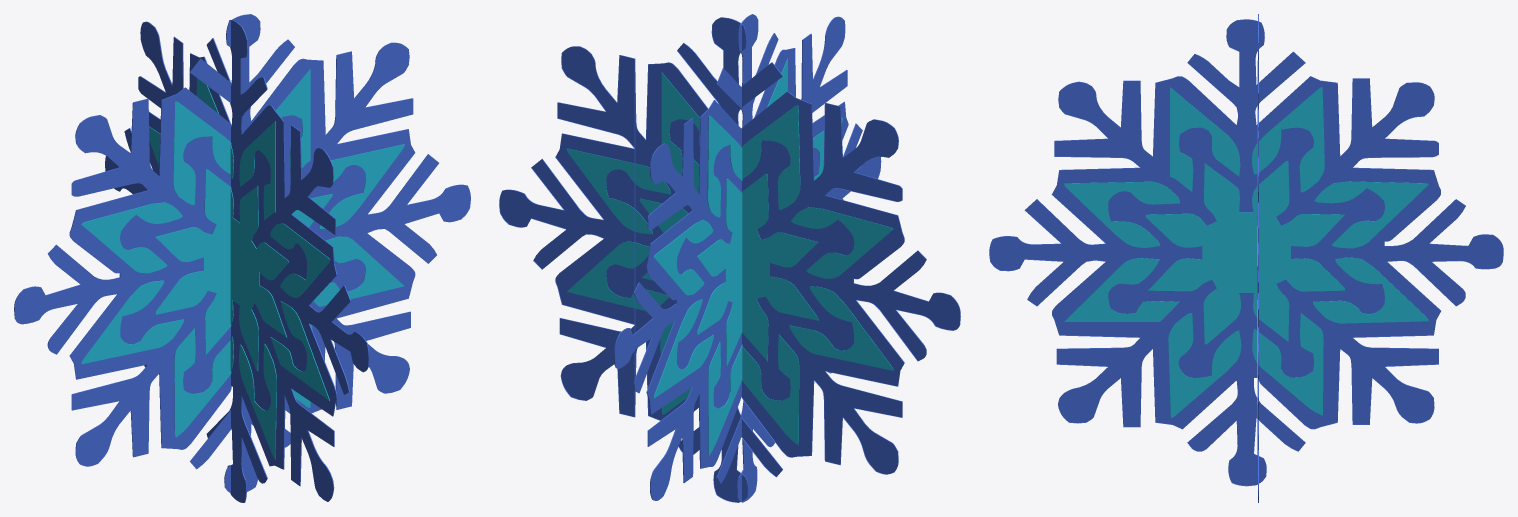
The model's file is Snowflake1.glb.
The picture shows the model from 3 angles, left to right: view 1: azimuth 30°, elevation 25°; view 2: azimuth 150°, elevation 25°; view 3: azimuth 270°, elevation 25°; orthographic projection. The views are drawn at different scales.
Parts seen in each view (by area): view 1: Curve.002; view 2: Curve.002; view 3: Curve.002.
Part boxes in pixels (x1,y1,x2,y2): Curve.002: [14, 14, 470, 502]; Curve.002: [499, 14, 960, 502]; Curve.002: [989, 14, 1503, 502].
Bounding box in the file's own units: 0.0315 × 0.0315 × 0.0315.
